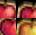heart: (16, 0, 36, 18), (0, 0, 16, 18), (0, 18, 16, 35)
